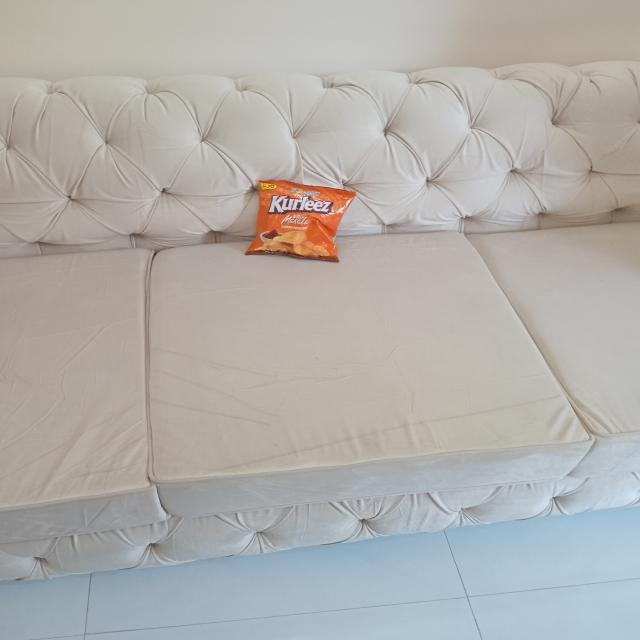Plastic: (240, 176, 355, 264)
